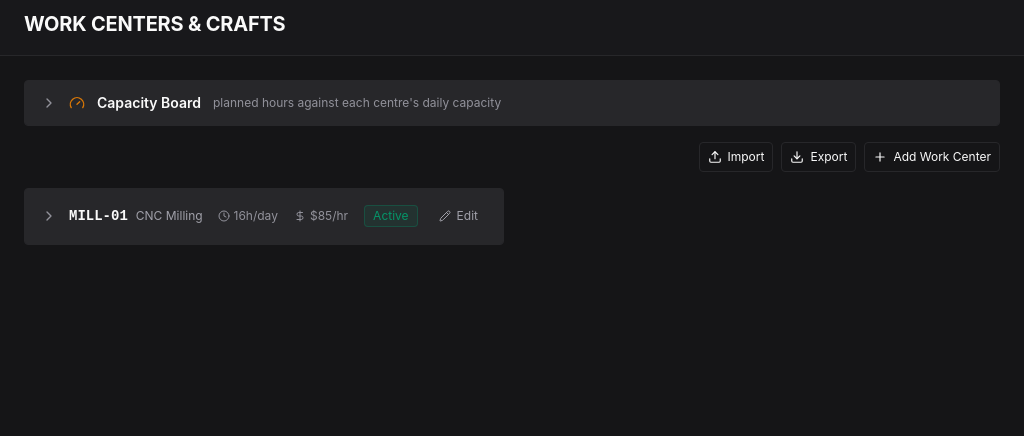
Test: WorkCentersPage CRUD (G6) › edits a work centre through workCenterService.update and refreshes the card
Click the button with aria-label "Edit work center MILL-01": (458, 216) [430, 201, 487, 231]
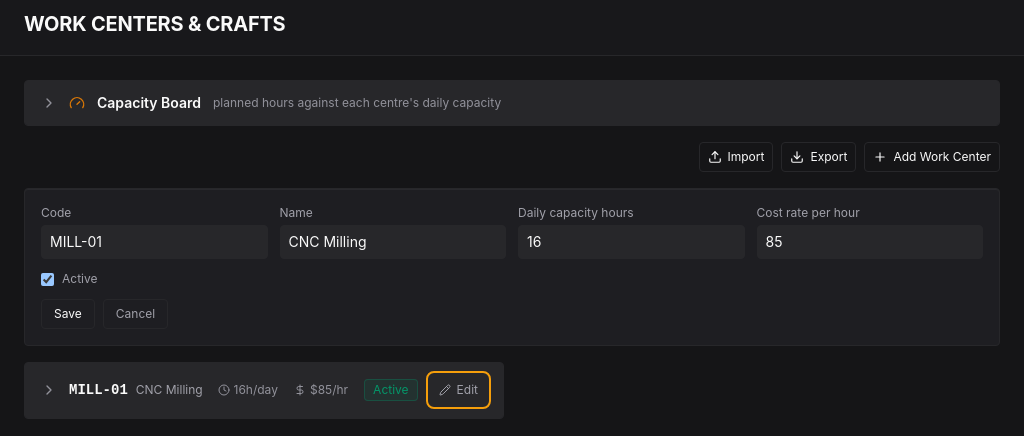
Result: the field labelled "Name" holds "CNC Milling"
Replace the text in the field labelled "Name" with "CNC Milling (2nd shift)": (393, 242) [280, 225, 506, 259]
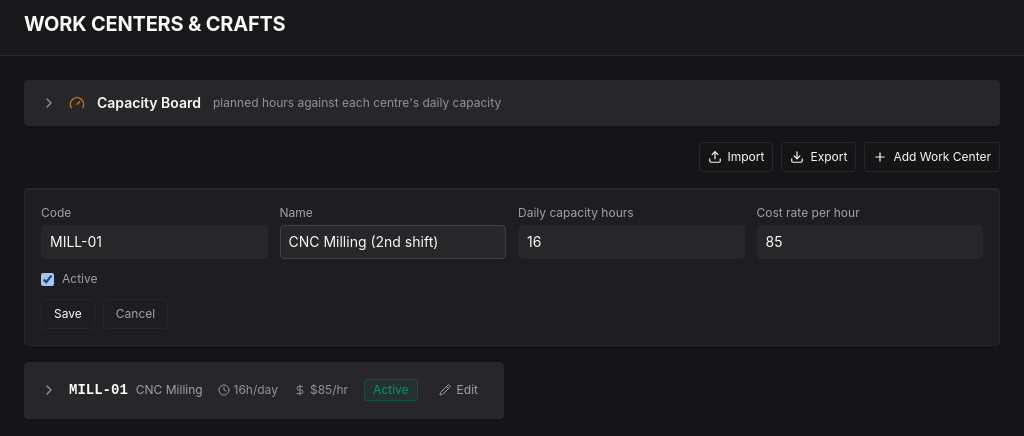
Click the checkbox labelled "Active": (48, 279) [41, 272, 54, 286]
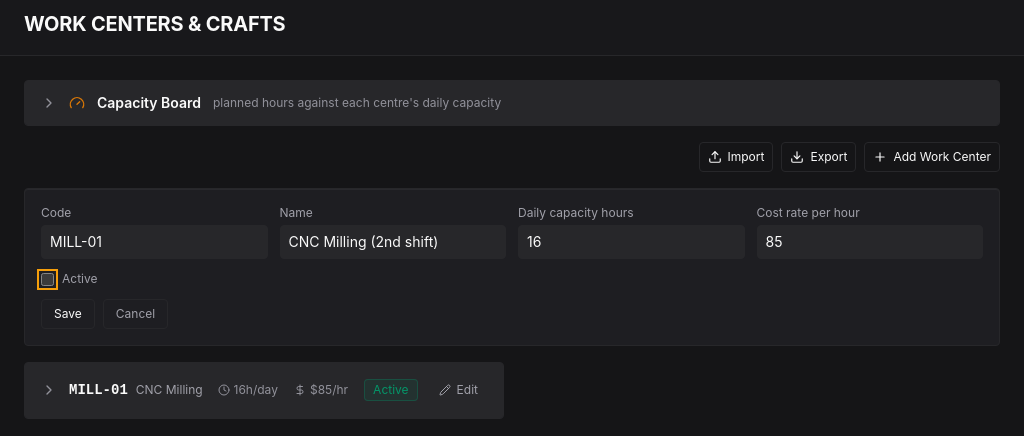
Click the button "Save": (68, 314) [41, 299, 95, 329]
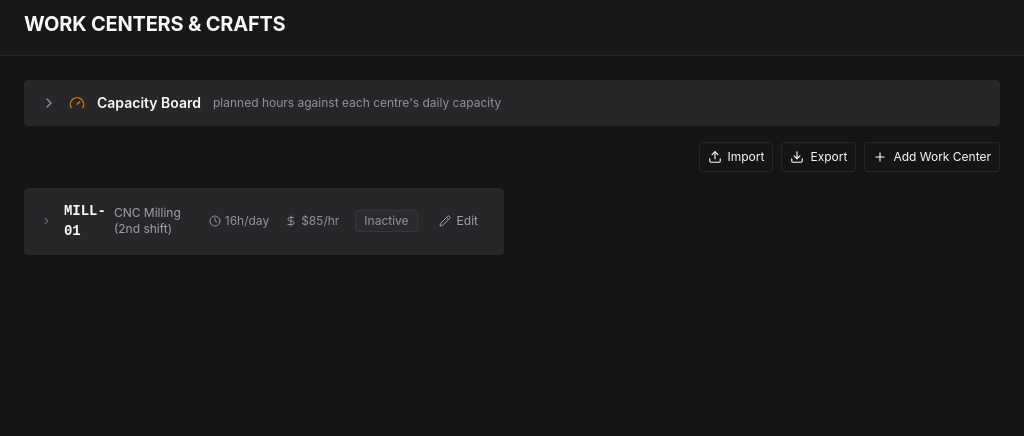
Result: the text "CNC Milling (2nd shift)" is shown at [114, 205, 181, 236]
Result: the text "Inactive" is shown at [355, 210, 418, 232]
